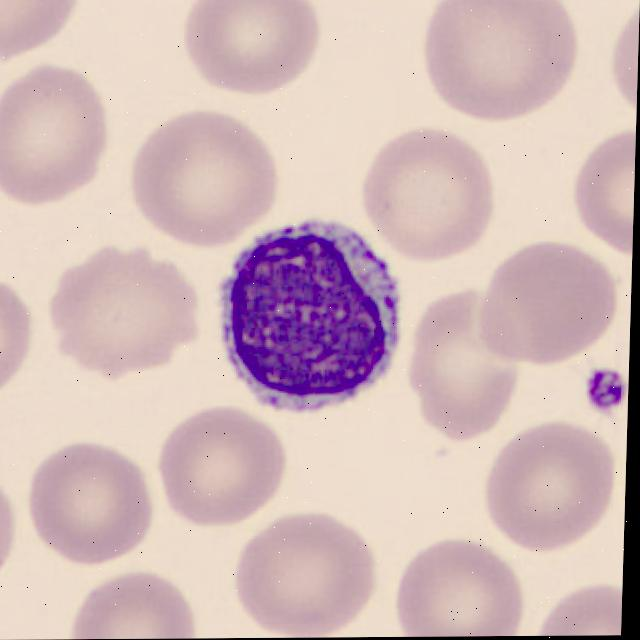lymphocyte: (204, 219, 401, 416)
platelets: (583, 359, 625, 426)
rbc: (414, 0, 576, 123), (42, 246, 196, 375), (345, 133, 500, 260), (406, 289, 518, 445), (238, 512, 376, 638), (477, 245, 622, 364), (483, 429, 620, 550), (125, 120, 270, 233), (22, 446, 154, 564), (148, 413, 283, 524), (167, 0, 319, 94), (0, 67, 101, 205), (396, 540, 524, 637), (64, 577, 196, 639), (571, 135, 636, 259), (538, 581, 623, 636), (0, 0, 75, 54), (606, 6, 639, 110), (0, 284, 29, 396), (0, 481, 17, 574)
